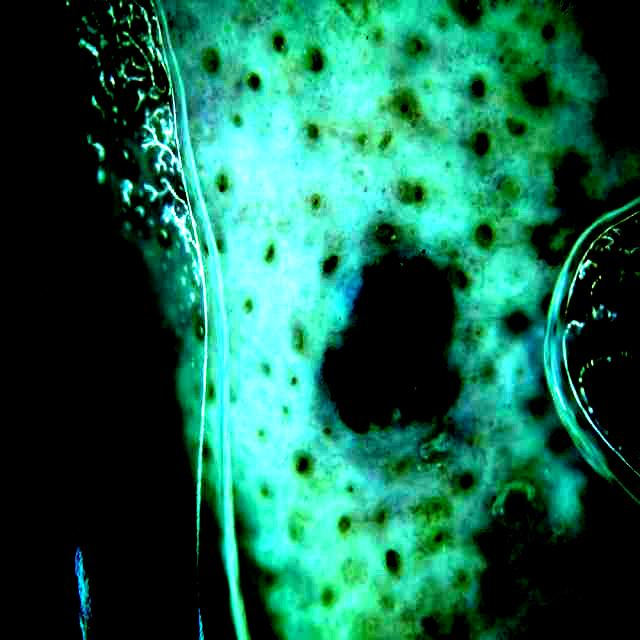BCC: (329, 262, 458, 432)
